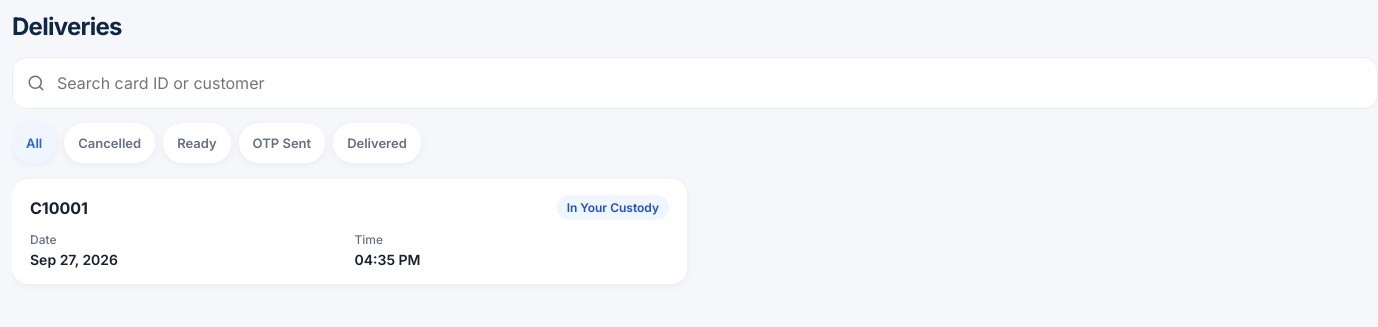
Scenario: DeliveriesPage search › debounces search and shows an empty state when nothing matches
Expected: the text "C10001" is shown, top-left (30, 198), bottom-right (88, 218)
Type "NO-MATCH" into the search field named "Search deliveries".
click(709, 83); type("NO-MATCH")  # box top-left (55, 58), bottom-right (1363, 108)
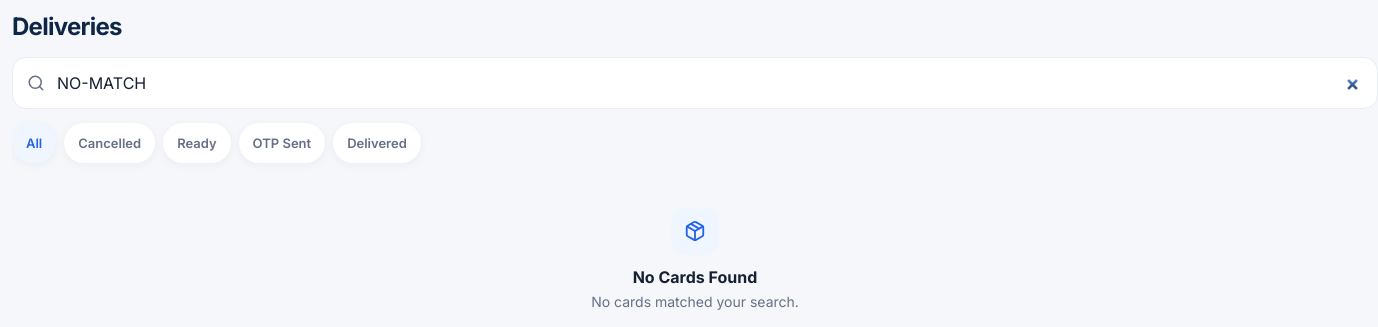
Now the heading "No Cards Found" is shown, box top-left (633, 267), bottom-right (757, 287)
